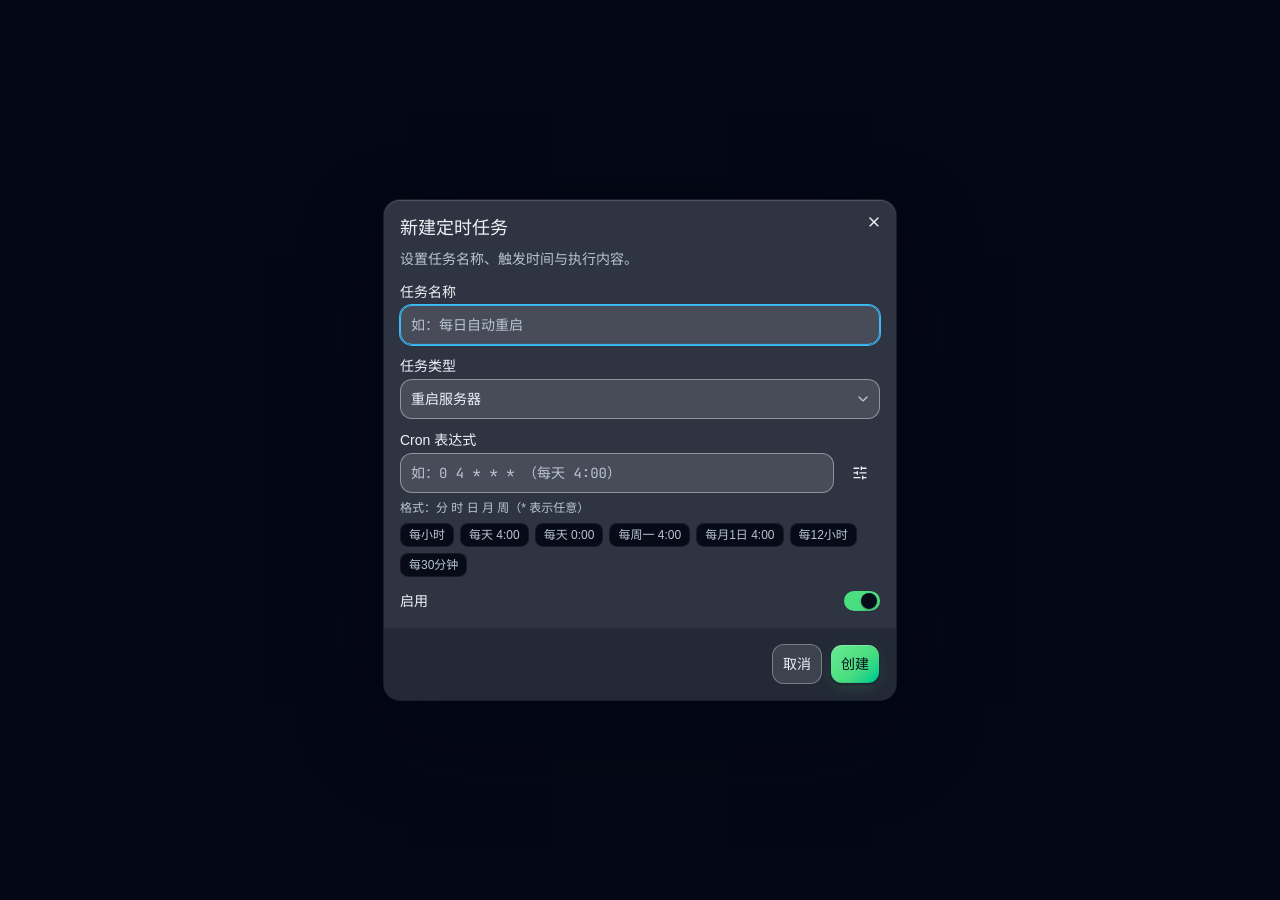
Test: TaskDialog Cron 表达式交互 › 预置 chip 点击回填 cron + 描述 + 激活态
The width and height of the screenshot is (1280, 900).
Step 1. Click the button "每天 4:00" → [494, 535], box x1=460 y1=523 x2=529 y2=547
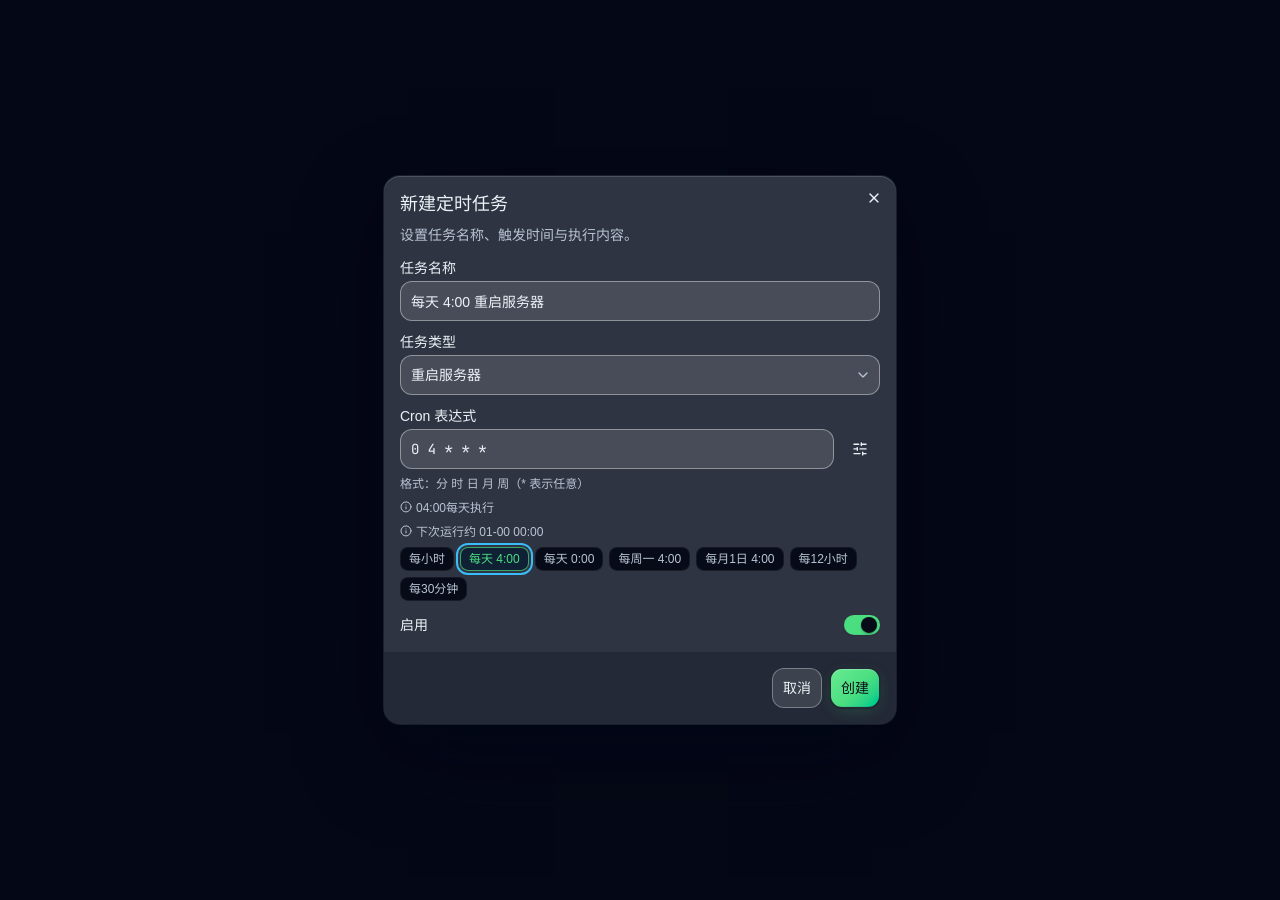
Check: the field labelled "Cron 表达式" holds "0 4 * * *", box x1=400 y1=429 x2=834 y2=469
Check: the text "04:00每天执行" is shown, box x1=416 y1=499 x2=494 y2=517
